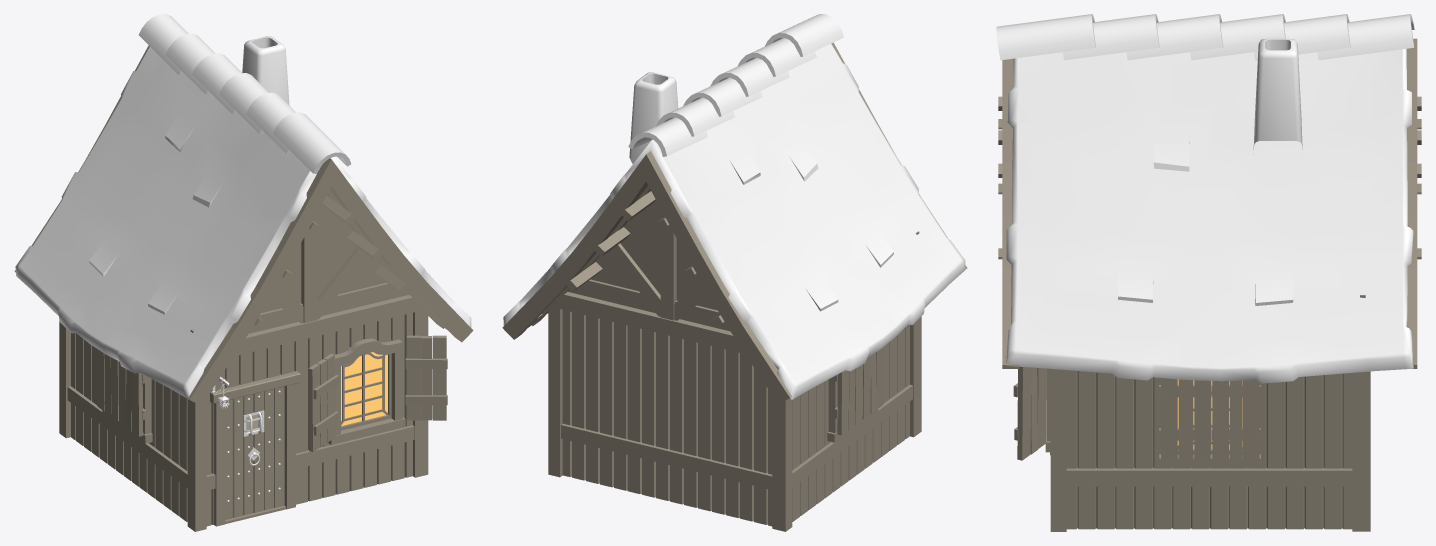
The model's file is gibbetmere_shuttered_home.glb.
3 views of the same model, side by side, from view 1: azimuth 30°, elevation 25°; view 2: azimuth 150°, elevation 25°; view 3: azimuth 270°, elevation 25° (orthographic). The views are drawn at different scales.
Visible parts, largest first — view 1: village/MI_FlatTiles, village/MI_WoodTrim_Wear, village/MI_WoodTrim, village/MI_RoundTiles, village/MI_WindowGlass, village/MI_UnevenBrick, village/MI_MetalOrnaments; view 2: village/MI_FlatTiles, village/MI_WoodTrim_Wear, village/MI_WoodTrim, village/MI_RoundTiles, village/MI_UnevenBrick; view 3: village/MI_FlatTiles, village/MI_WoodTrim_Wear, village/MI_WoodTrim, village/MI_RoundTiles, village/MI_UnevenBrick.
Boxes of the visible parts, left/top/right/bottom form: village/MI_FlatTiles: left=15, top=47, right=471, bottom=399; village/MI_WoodTrim_Wear: left=71, top=313, right=447, bottom=526; village/MI_WoodTrim: left=14, top=45, right=473, bottom=531; village/MI_RoundTiles: left=138, top=14, right=351, bottom=173; village/MI_WindowGlass: left=341, top=352, right=387, bottom=425; village/MI_UnevenBrick: left=242, top=36, right=289, bottom=105; village/MI_MetalOrnaments: left=227, top=390, right=280, bottom=502; village/MI_FlatTiles: left=503, top=44, right=965, bottom=399; village/MI_WoodTrim_Wear: left=562, top=310, right=909, bottom=526; village/MI_WoodTrim: left=502, top=42, right=967, bottom=531; village/MI_RoundTiles: left=628, top=14, right=843, bottom=156; village/MI_UnevenBrick: left=629, top=72, right=678, bottom=163; village/MI_FlatTiles: left=1005, top=48, right=1413, bottom=383; village/MI_WoodTrim_Wear: left=1013, top=367, right=1352, bottom=529; village/MI_WoodTrim: left=998, top=38, right=1421, bottom=531; village/MI_RoundTiles: left=996, top=14, right=1414, bottom=60; village/MI_UnevenBrick: left=1253, top=38, right=1302, bottom=154.
Size of the model in its own units: 5.53 by 6.54 by 5.62.
